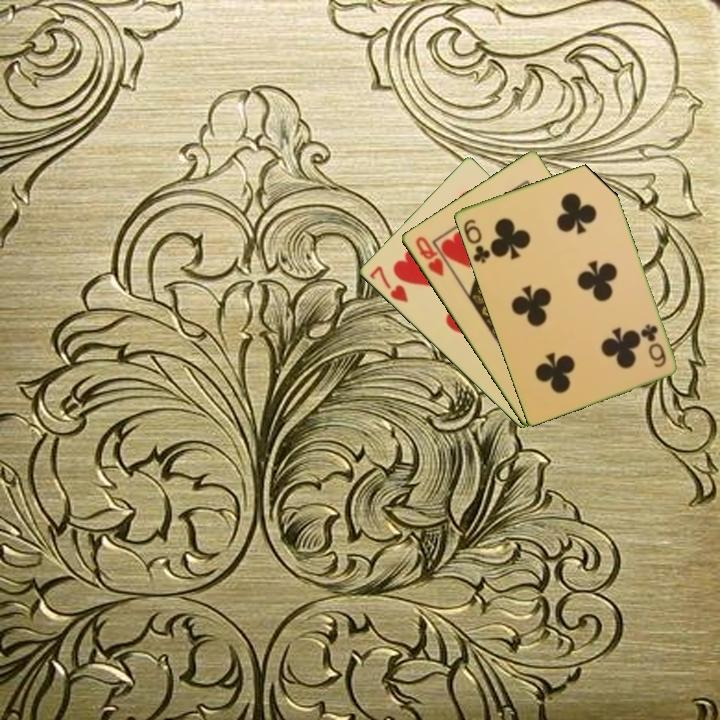6c: (459, 215, 493, 266), (637, 320, 669, 370)
7h: (365, 262, 411, 306)
Qh: (411, 232, 446, 279)
